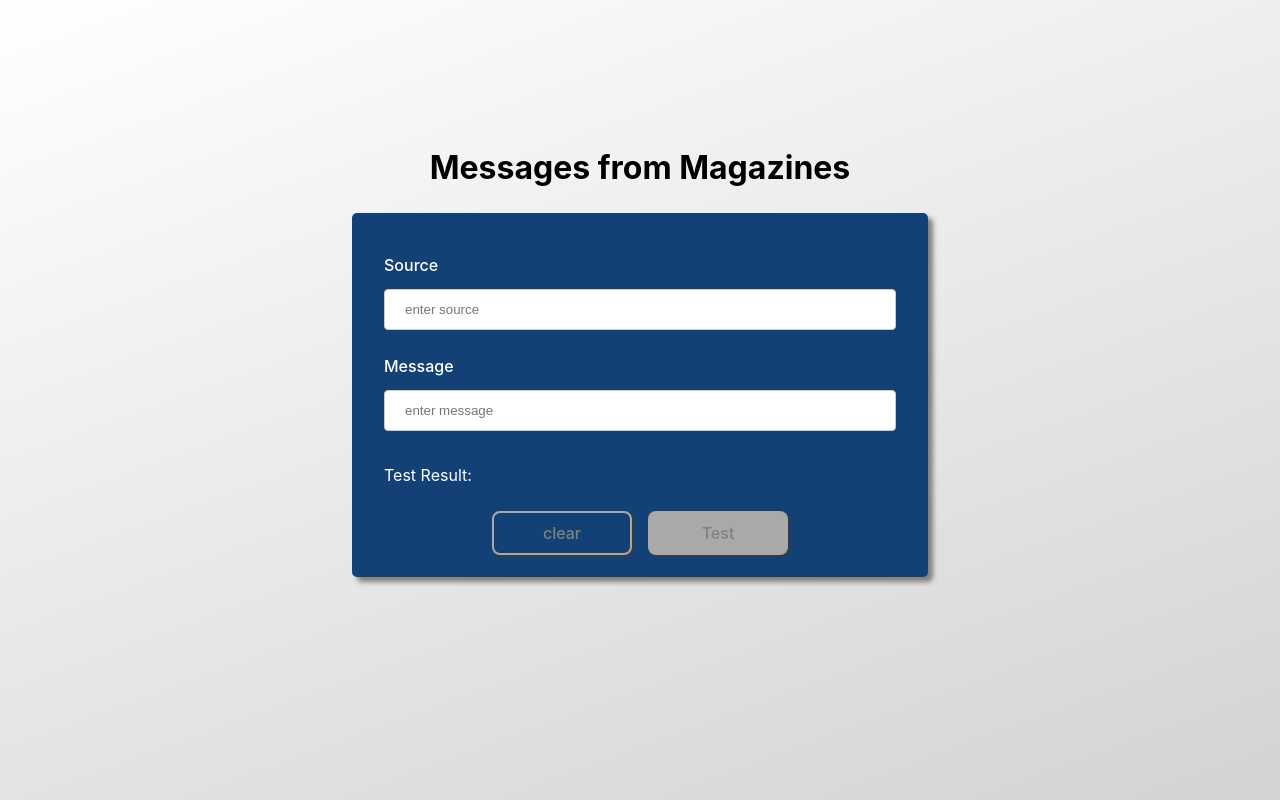
Test: test the UI workflow
Type "hello world" into the field with test id "source-input".
click(640, 310); type("hello world")  # box x1=384 y1=289 x2=896 y2=330
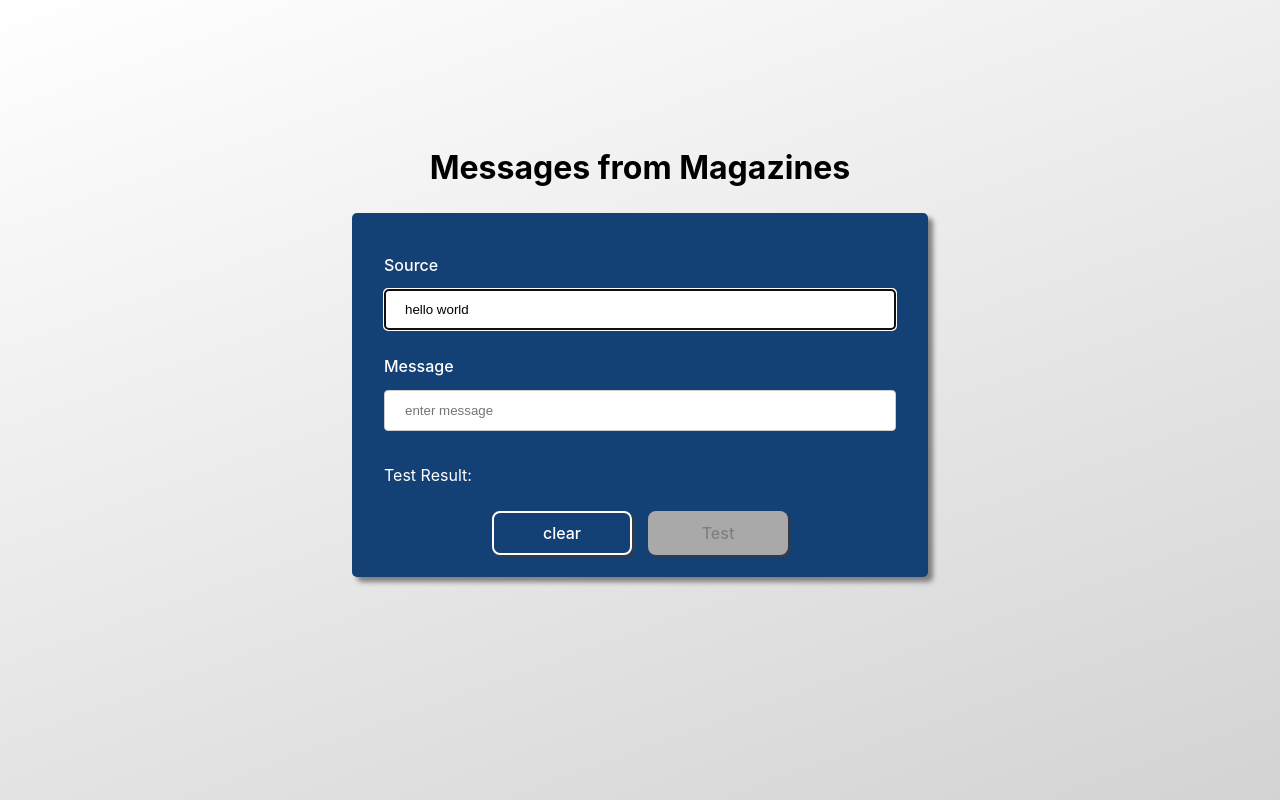
Expected: the button with test id "test-button" is disabled, x1=648 y1=511 x2=788 y2=555
Type "how old" into the field with test id "message-input".
click(640, 411); type("how old")  # box x1=384 y1=390 x2=896 y2=431
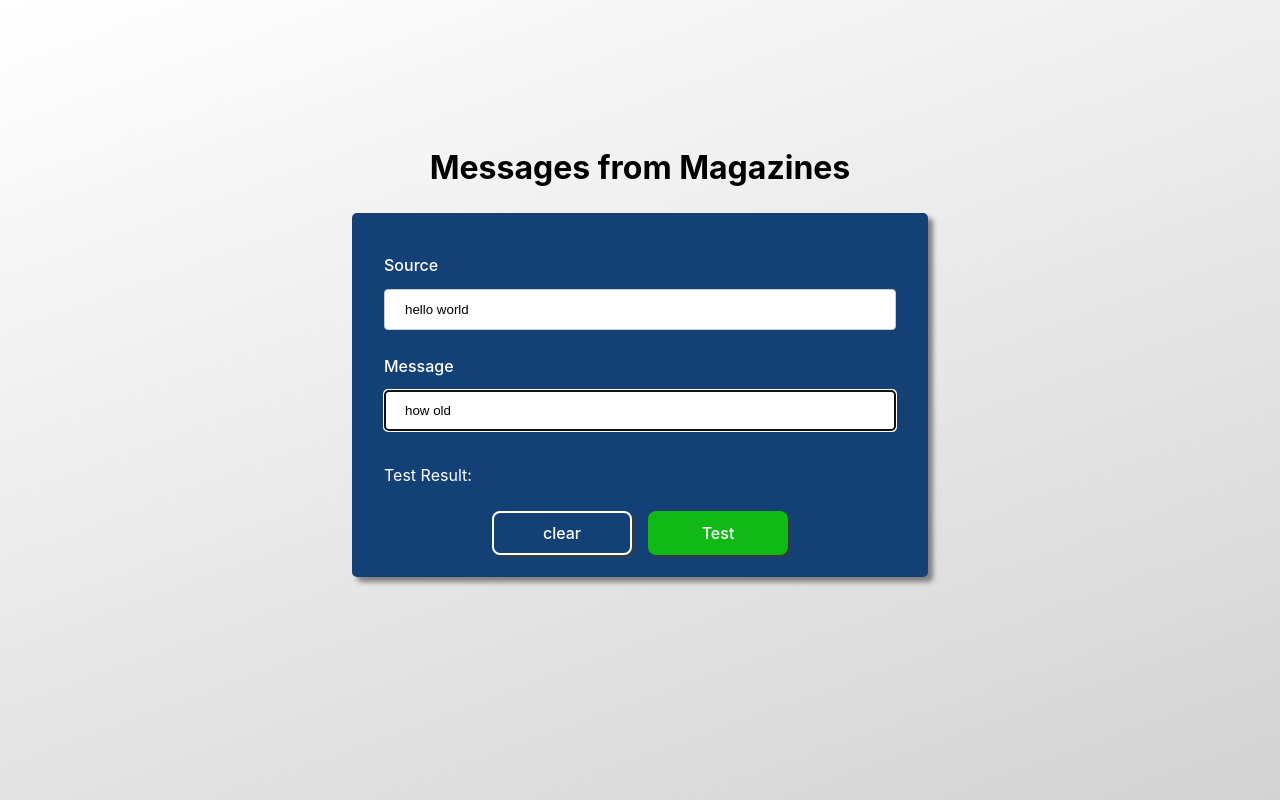
Expected: the button with test id "test-button" is enabled
Click the button with test id "test-button".
click(718, 533)  # box x1=648 y1=511 x2=788 y2=555
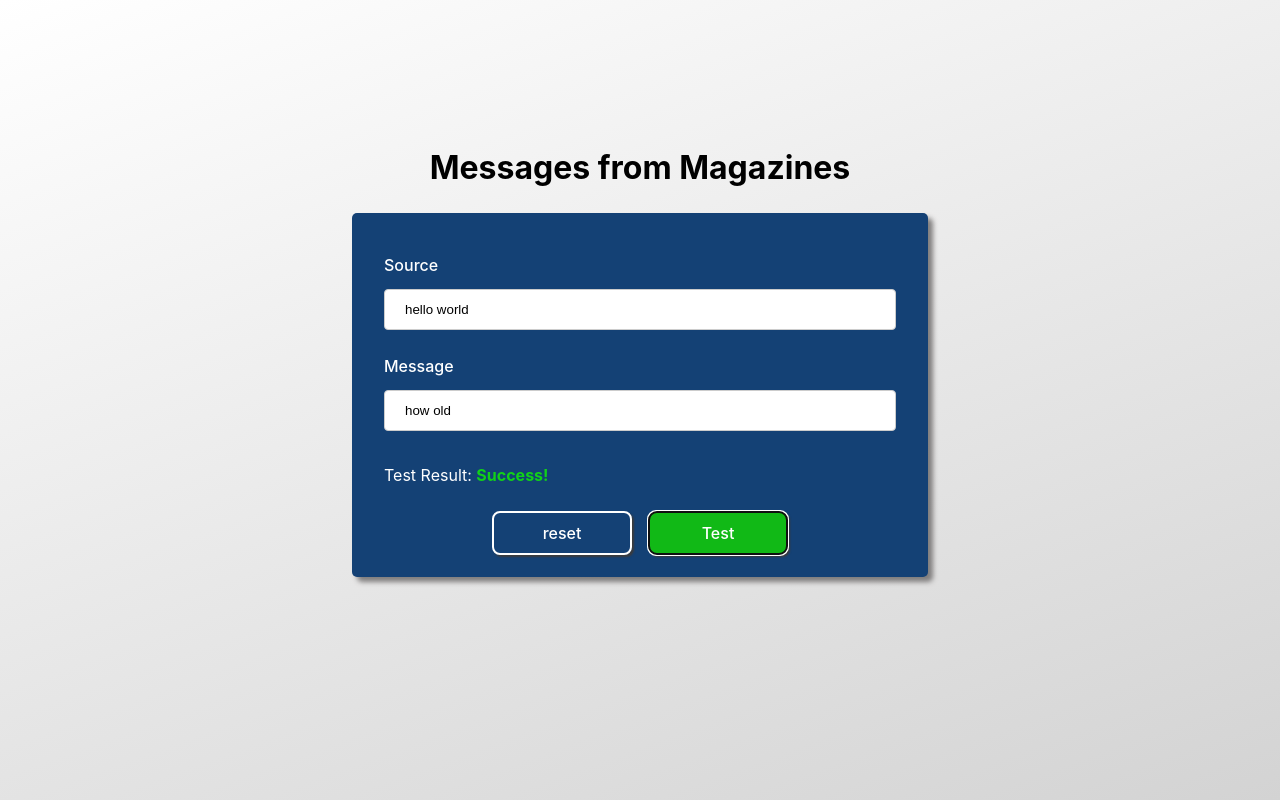
Expected: the element with test id "result-text" shows "Success!", x1=476 y1=465 x2=548 y2=485
Click the button with test id "clear-button".
click(562, 533)  # box x1=492 y1=511 x2=632 y2=555
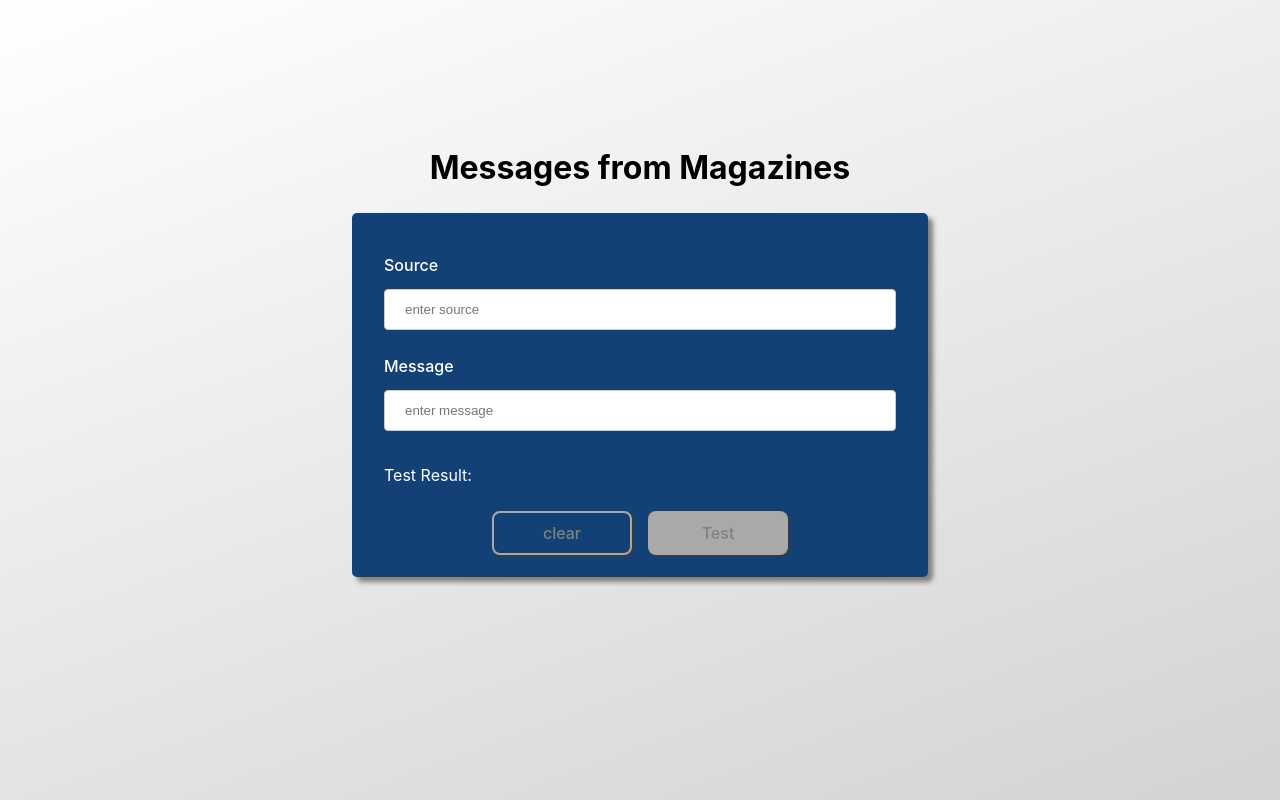
Expected: the field with test id "source-input" is empty, x1=384 y1=289 x2=896 y2=330
Expected: the field with test id "message-input" is empty, x1=384 y1=390 x2=896 y2=431
